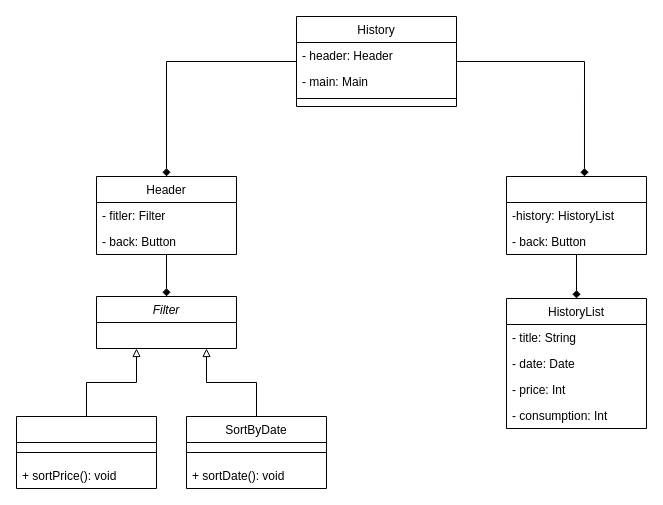
The diagram is 663 pixels wide and 505 high, and some of its shapes have lost their labels. The box of each missing label's shape, as (x1, y1, x2, y2) in pixels:
Main: (506, 176, 646, 254)
SortByPrice: (16, 416, 156, 488)
